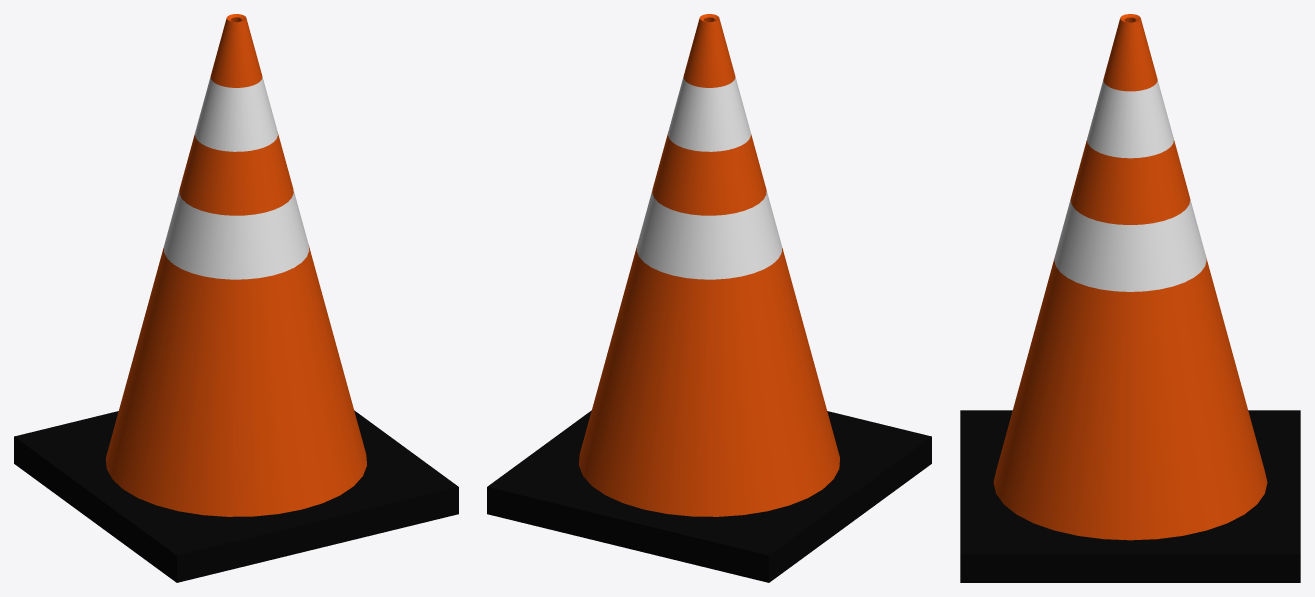
The model's file is traffic cone.fbx.
The picture shows the model from 3 angles, left to right: view 1: azimuth 30°, elevation 25°; view 2: azimuth 150°, elevation 25°; view 3: azimuth 270°, elevation 25°; orthographic projection. The views are drawn at different scales.
Parts seen in each view (by area): view 1: Cone; view 2: Cone; view 3: Cone.
Boxes of the visible parts, left/top/right/bottom form: Cone: left=14, top=14, right=458, bottom=582; Cone: left=487, top=14, right=931, bottom=582; Cone: left=960, top=14, right=1300, bottom=582.
Bounding box in the file's own units: 42.07 × 42.07 × 67.14.
